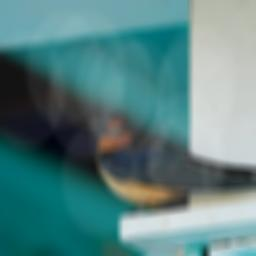Swallow: (92, 105, 256, 213)
